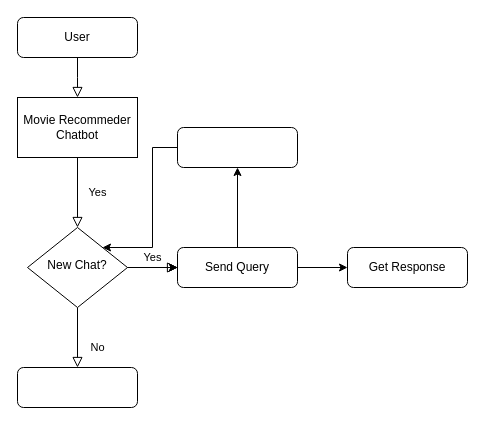
Some shapes in this 485 by 425 pixel diagram are drawn without their labels. The shapes that lost their labels are listed below. From the top down, each one's centre as x and y in pixels, then its label:
point 237,147: New Chat
point 77,387: Retrieve chat History
